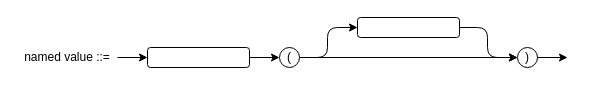
The diagram is 593 pixels wide and 85 high, and some of its shapes have lost their labels. The shapes that lost their labels are listed below. From the top down, each one's centre as x and y in pixels, then its label:
[408,27]: value
[198,57]: name
